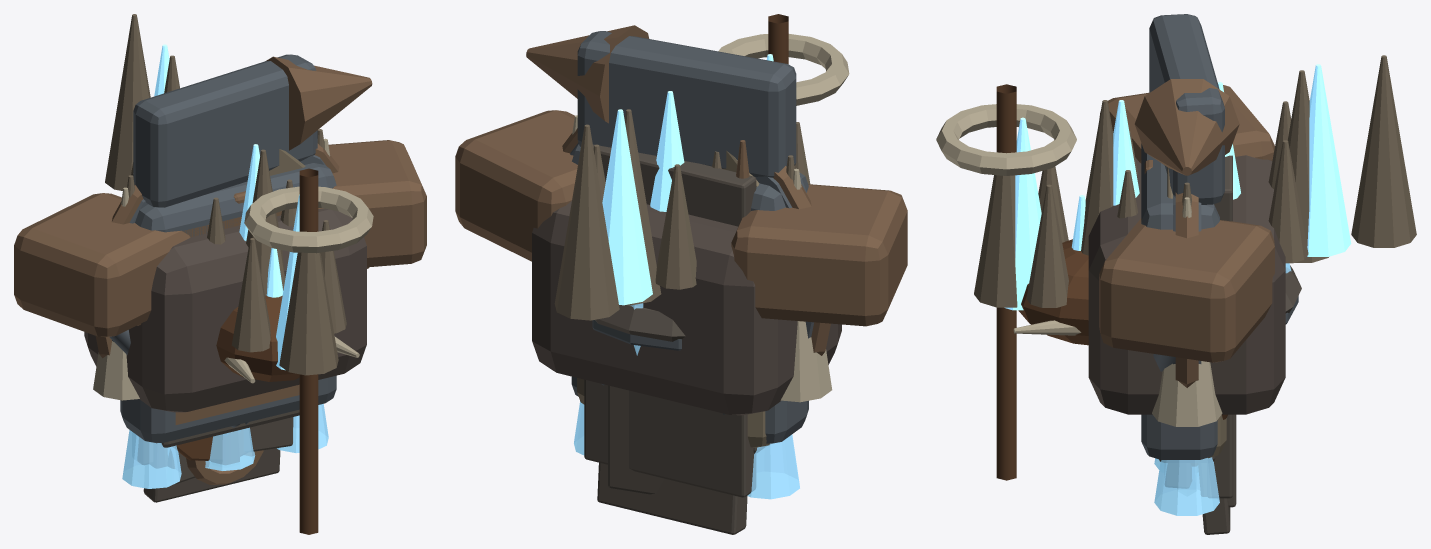
Rendered from enemy_identity_kit.glb.
3 views of the same model, side by side, from view 1: azimuth 30°, elevation 25°; view 2: azimuth 150°, elevation 25°; view 3: azimuth 270°, elevation 25° (orthographic). The views are drawn at different scales.
Parts seen in each view (by area): view 1: IronKingPlate, IronKingWeapon, AshMawCarapace, WildDragonDorsal, ShamanTotem, BoarThornback, ShadeVeil, BoarHead, AncientDragonCrown, FrostDragonDorsal, WightBurialArmor, SoldierHarness (+4 smaller); view 2: IronKingPlate, AshMawCarapace, IronKingWeapon, IronKingBack, WildDragonDorsal, FrostDragonDorsal, WightBurialArmor, ShamanTotem, BoarThornback, AncientDragonCrown, ShadeVeil, NecroRibs (+3 smaller); view 3: IronKingPlate, WildDragonDorsal, AshMawCarapace, IronKingWeapon, ShamanTotem, FrostDragonDorsal, BoarThornback, AncientDragonCrown, BoarHead, ShadeVeil, IronKingBack, WightBurialArmor (+1 smaller).
Boxes of the visible parts, <box> form: IronKingPlate: <box>14,140,426,443</box>; IronKingWeapon: <box>133,54,372,464</box>; AshMawCarapace: <box>84,208,366,412</box>; WildDragonDorsal: <box>105,14,338,375</box>; ShamanTotem: <box>244,168,373,534</box>; BoarThornback: <box>131,162,346,352</box>; ShadeVeil: <box>122,404,328,488</box>; BoarHead: <box>216,295,359,383</box>; AncientDragonCrown: <box>93,138,339,400</box>; FrostDragonDorsal: <box>154,44,299,370</box>; WightBurialArmor: <box>137,267,369,502</box>; SoldierHarness: <box>157,409,299,460</box>; IronKingPlate: <box>455,110,907,443</box>; AshMawCarapace: <box>532,201,841,415</box>; IronKingWeapon: <box>526,25,796,177</box>; IronKingBack: <box>584,140,756,497</box>; WildDragonDorsal: <box>554,109,661,320</box>; FrostDragonDorsal: <box>602,54,773,305</box>; WightBurialArmor: <box>597,462,747,534</box>; ShamanTotem: <box>718,14,849,105</box>; BoarThornback: <box>593,122,810,289</box>; AncientDragonCrown: <box>562,115,832,402</box>; ShadeVeil: <box>574,401,799,499</box>; NecroRibs: <box>608,385,663,494</box>; IronKingPlate: <box>1099,85,1274,459</box>; WildDragonDorsal: <box>974,55,1416,307</box>; AshMawCarapace: <box>1088,155,1285,414</box>; IronKingWeapon: <box>1134,14,1239,204</box>; ShamanTotem: <box>936,84,1076,480</box>; FrostDragonDorsal: <box>1004,64,1351,310</box>; BoarThornback: <box>1026,101,1308,307</box>; AncientDragonCrown: <box>1152,192,1222,426</box>; BoarHead: <box>1013,239,1088,345</box>; ShadeVeil: <box>1154,457,1219,515</box>; IronKingBack: <box>1207,155,1232,498</box>; WightBurialArmor: <box>1198,463,1230,534</box>.
Bounding box in the file's own units: 1.48 × 1.52 × 1.47.
